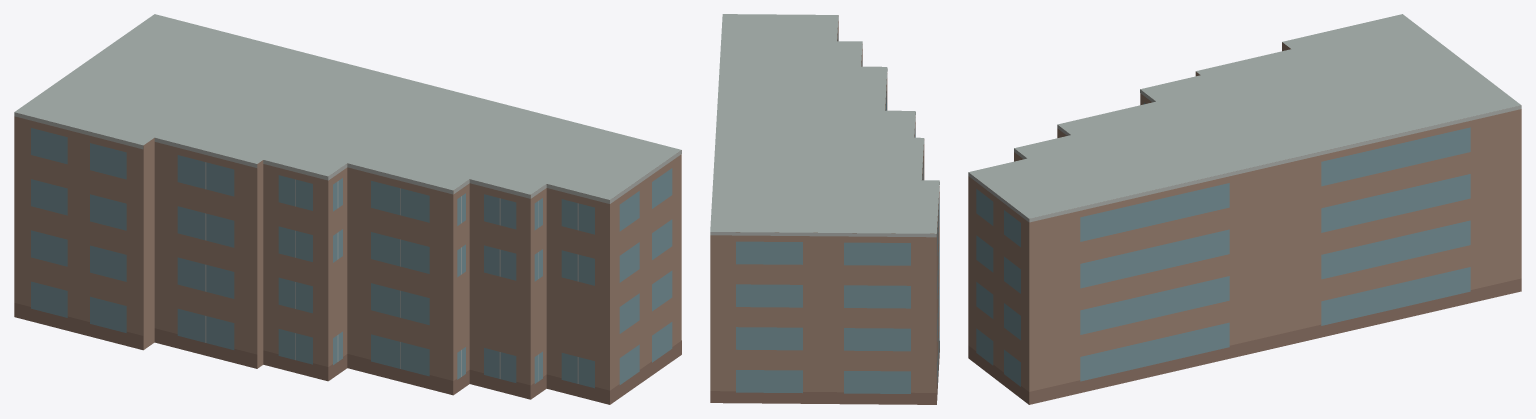
The model's file is survey-upis-32773211.glb.
3 views of the same model, side by side, from view 1: azimuth 30°, elevation 25°; view 2: azimuth 150°, elevation 25°; view 3: azimuth 270°, elevation 25° (orthographic). The views are drawn at different scales.
Visible parts, largest first — view 1: survey-upis-32773211.tmp; view 2: survey-upis-32773211.tmp; view 3: survey-upis-32773211.tmp.
Boxes of the visible parts, x1=… form: survey-upis-32773211.tmp: x1=14, y1=14, x2=681, y2=404; survey-upis-32773211.tmp: x1=710, y1=14, x2=939, y2=404; survey-upis-32773211.tmp: x1=968, y1=14, x2=1521, y2=404.
Bounding box in the file's own units: 28.8 × 12.2 × 32.88.
